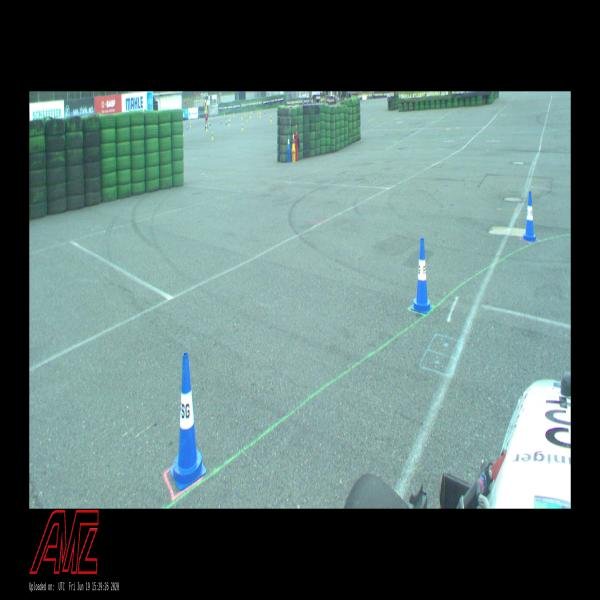blue_cone: (170, 353, 206, 491), (411, 238, 432, 315), (522, 191, 538, 242), (287, 133, 290, 151), (220, 118, 222, 125), (209, 120, 211, 126), (225, 119, 227, 125), (228, 118, 230, 124), (187, 124, 188, 130), (276, 108, 277, 112), (264, 110, 265, 114)
orange_cone: (251, 110, 252, 116)
yellow_cone: (291, 134, 295, 150), (212, 131, 214, 140), (270, 115, 272, 122), (246, 115, 248, 122), (242, 123, 244, 130), (241, 113, 243, 120), (206, 125, 208, 132), (207, 118, 209, 125), (228, 120, 230, 126), (244, 110, 246, 116), (229, 115, 231, 120), (210, 114, 212, 118), (250, 112, 251, 119), (190, 121, 191, 127), (260, 110, 261, 115), (233, 111, 234, 116), (224, 112, 225, 117), (258, 110, 258, 114), (260, 113, 260, 118)
